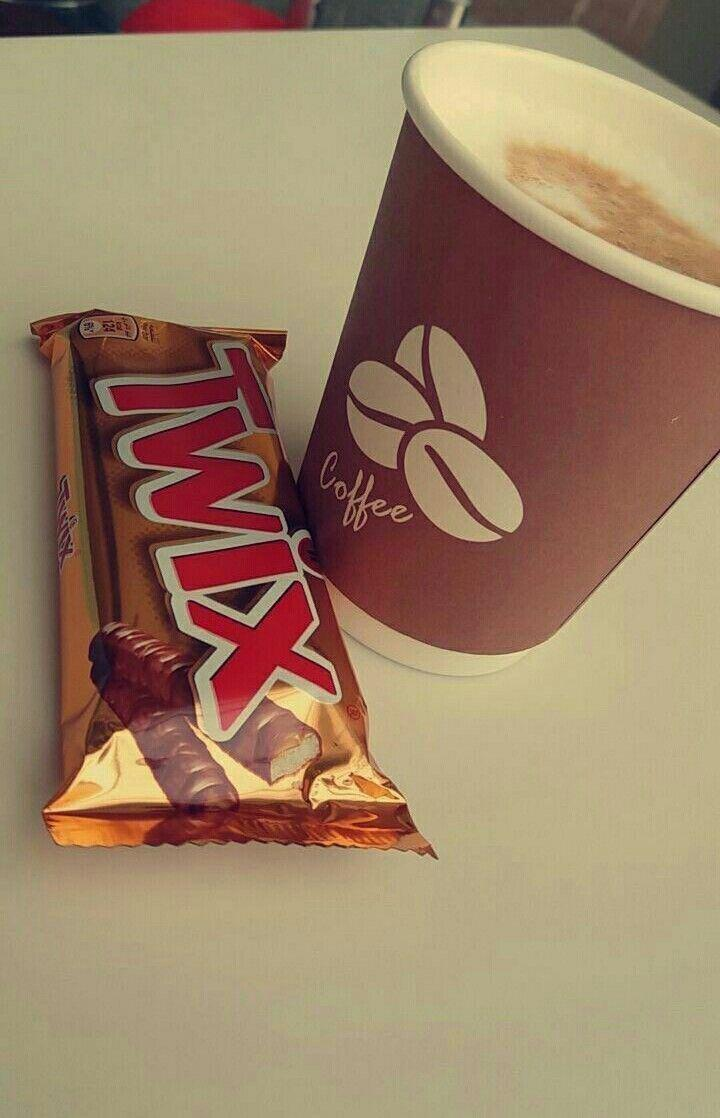cup-disposable: (281, 28, 715, 675)
